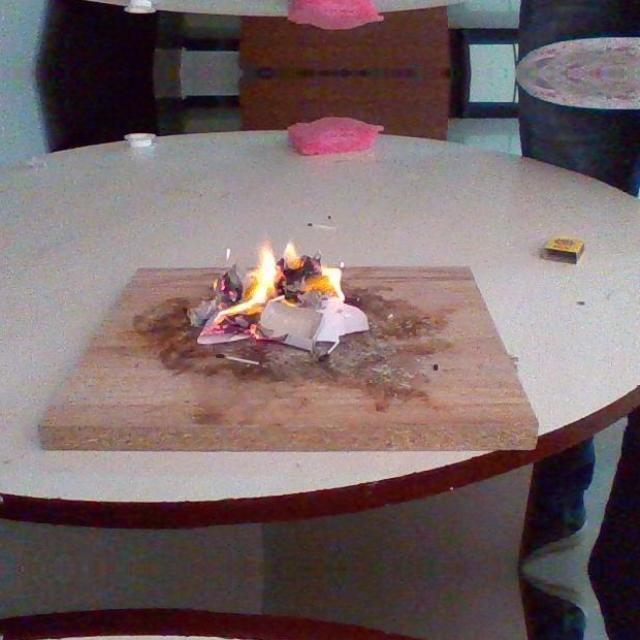smoke: (209, 240, 282, 322), (303, 259, 348, 304)
